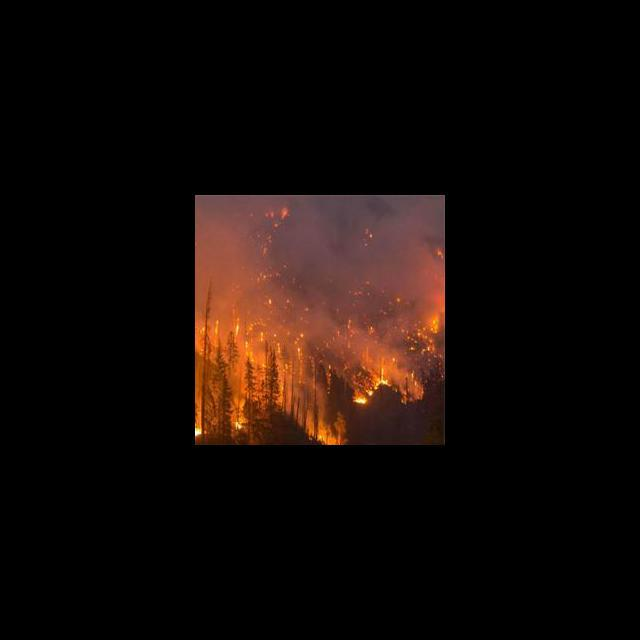Fire: (196, 236, 444, 444)
